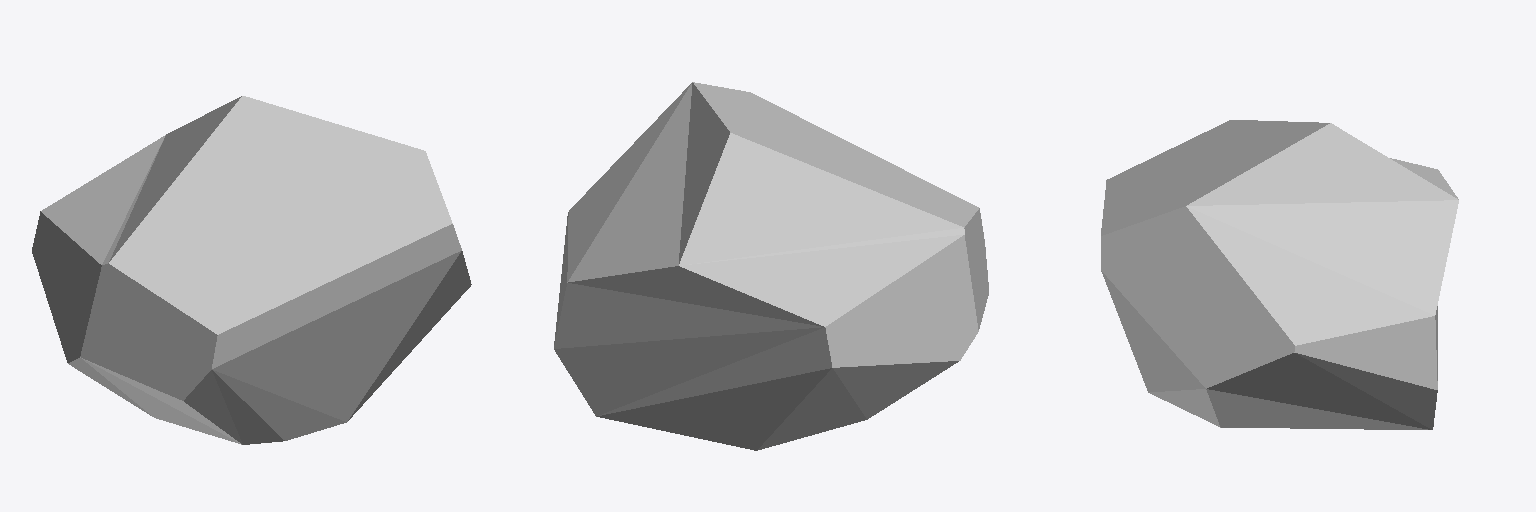
The model's file is Rock1.obj.
3 views of the same model, side by side, from view 1: azimuth 30°, elevation 25°; view 2: azimuth 150°, elevation 25°; view 3: azimuth 270°, elevation 25° (orthographic).
Visible parts, largest first — view 1: Rock_Cube.002; view 2: Rock_Cube.002; view 3: Rock_Cube.002.
Boxes of the visible parts, box(x1,y1,x2,y2) form: Rock_Cube.002: box(32, 96, 471, 444); Rock_Cube.002: box(554, 82, 988, 450); Rock_Cube.002: box(1101, 120, 1458, 429).
Size of the model in its own units: 3.24 by 2.23 by 2.6.